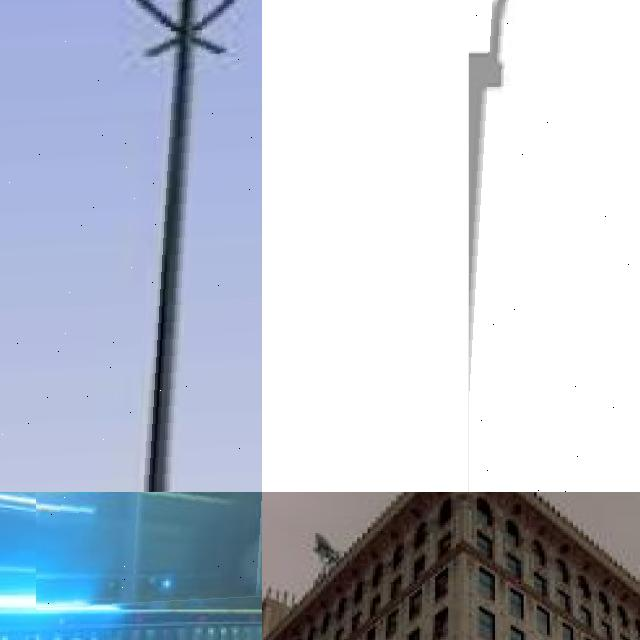street light: (0, 0, 262, 492), (262, 0, 466, 492), (469, 0, 640, 492), (36, 492, 262, 609)
